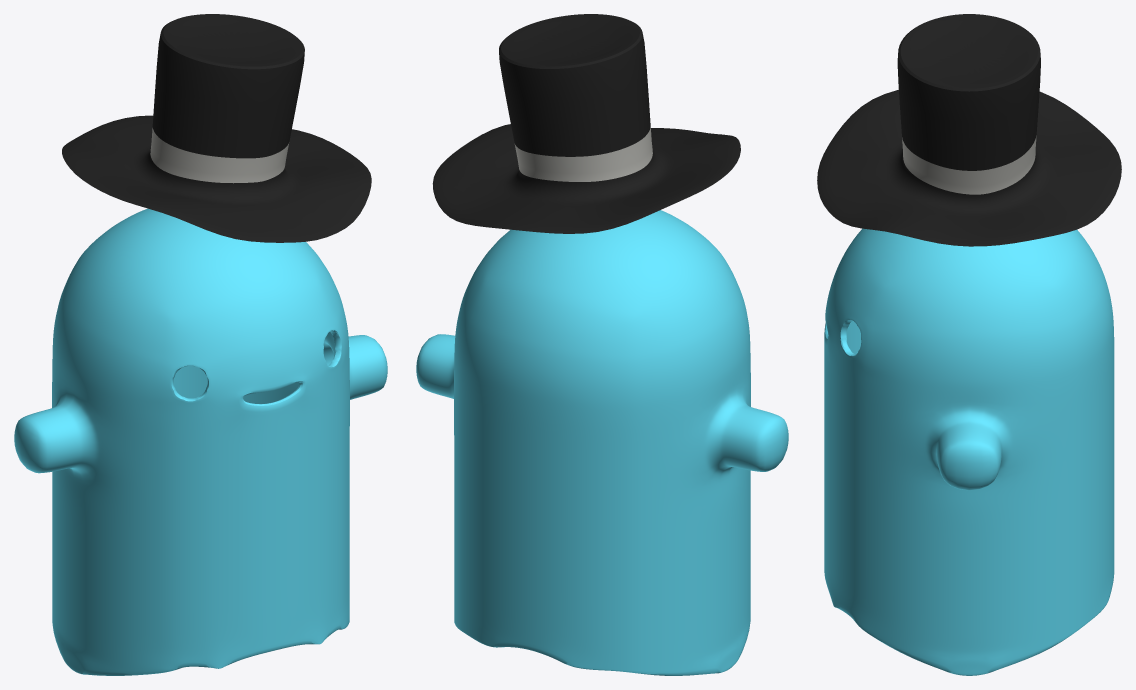
File: CuteGhost.fbx
The picture shows the model from 3 angles, left to right: view 1: azimuth 30°, elevation 25°; view 2: azimuth 150°, elevation 25°; view 3: azimuth 270°, elevation 25°; orthographic projection. The views are drawn at different scales.
Parts seen in each view (by area): view 1: Ghost; view 2: Ghost; view 3: Ghost.
Part boxes in pixels (bbox=[...]): Ghost: bbox=[14, 14, 387, 675]; Ghost: bbox=[416, 14, 788, 675]; Ghost: bbox=[817, 14, 1121, 675].
Size of the model in its own units: 10604 by 16920 by 7954.
